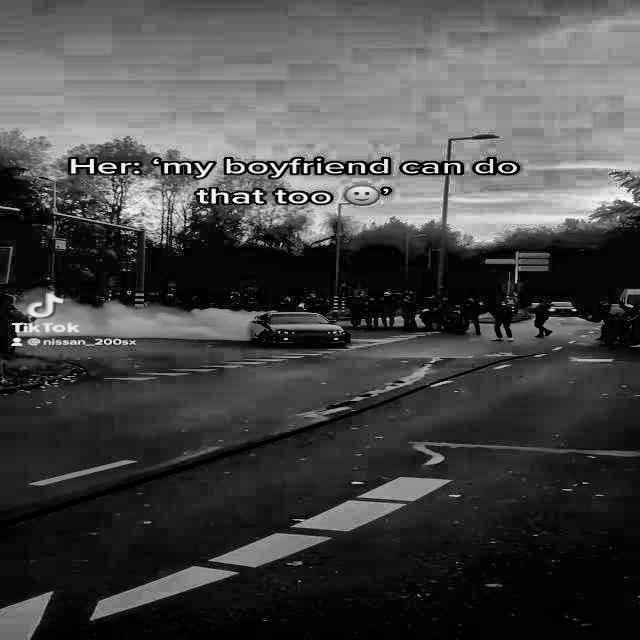carro: (253, 310, 350, 354)
